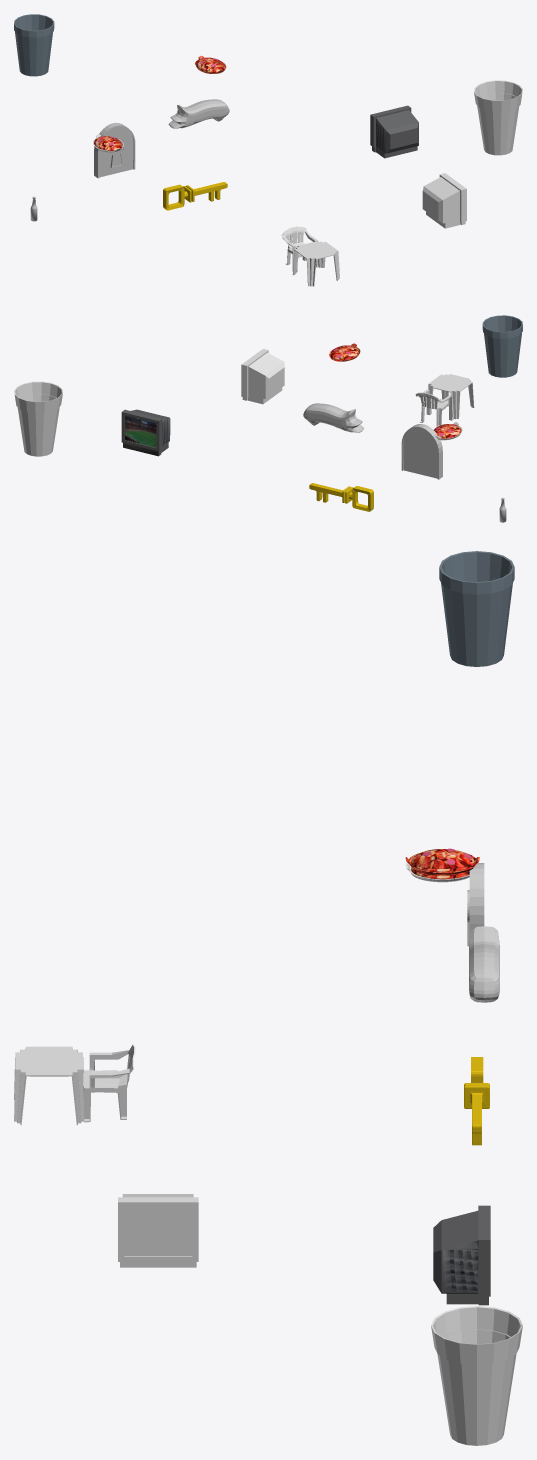
The model's file is Cat.fbx.
3 renders of one model, top to bottom at view 1: azimuth 30°, elevation 25°; view 2: azimuth 150°, elevation 25°; view 3: azimuth 270°, elevation 25°, orthographic. The views are drawn at different scales.
Visible parts, largest first — view 1: Cylinder.002, Cube, Cylinder.001, Cube.002, Cube.001, Plane.002, Plane, Cube.004, Plane.001, Cylinder.004, Cube.003, Sphere.001; view 2: Cylinder.002, Cylinder.001, Cube, Cube.001, Cube.002, Plane.002, Plane, Cube.004, Plane.001, Cube.003, Cylinder.004, Sphere.001; view 3: Cylinder.002, Cylinder.001, Cube.003, Cube, Plane, Plane.002, Plane.001, Cylinder.004, Cube.004, Cube.001.
Boxes of the visible parts, left/top/right/bottom form: Cylinder.002: left=474, top=80, right=522, bottom=155; Cube: left=370, top=105, right=418, bottom=158; Cylinder.001: left=14, top=14, right=54, bottom=76; Cube.002: left=422, top=177, right=460, bottom=228; Cube.001: left=94, top=122, right=135, bottom=178; Plane.002: left=168, top=99, right=229, bottom=128; Plane: left=292, top=241, right=339, bottom=286; Cube.004: left=163, top=182, right=227, bottom=210; Plane.001: left=281, top=226, right=318, bottom=272; Cylinder.004: left=195, top=56, right=226, bottom=73; Cube.003: left=439, top=173, right=466, bottom=224; Sphere.001: left=94, top=136, right=122, bottom=150; Cylinder.002: left=14, top=381, right=62, bottom=456; Cylinder.001: left=482, top=315, right=522, bottom=377; Cube: left=121, top=409, right=170, bottom=456; Cube.001: left=401, top=424, right=442, bottom=479; Cube.002: left=248, top=352, right=284, bottom=404; Plane.002: left=303, top=403, right=364, bottom=432; Plane: left=428, top=374, right=474, bottom=419; Cube.004: left=309, top=483, right=373, bottom=511; Plane.001: left=415, top=389, right=453, bottom=426; Cube.003: left=241, top=349, right=268, bottom=400; Cylinder.004: left=329, top=343, right=360, bottom=361; Sphere.001: left=434, top=424, right=461, bottom=438; Cylinder.002: left=431, top=1306, right=522, bottom=1445; Cylinder.001: left=439, top=551, right=514, bottom=666; Cube.003: left=118, top=1197, right=198, bottom=1267; Cube: left=433, top=1205, right=490, bottom=1305; Plane: left=14, top=1046, right=84, bottom=1125; Plane.002: left=469, top=926, right=499, bottom=1002; Plane.001: left=83, top=1044, right=135, bottom=1122; Cylinder.004: left=405, top=848, right=479, bottom=875; Cube.004: left=464, top=1057, right=489, bottom=1145; Cube.001: left=469, top=863, right=484, bottom=937.
Bounding box in the file's own units: 4003 × 1823 × 1885.
